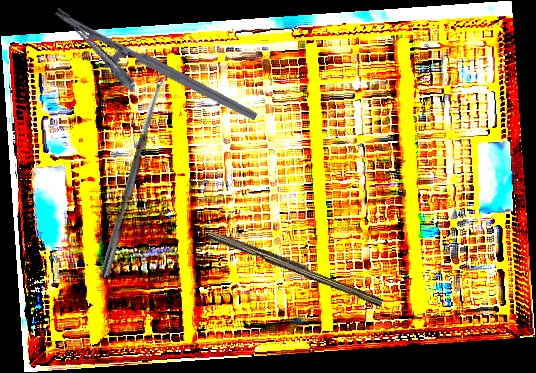Needle Holder: (39, 5, 259, 150)
Scalpel Handle: (205, 226, 386, 308)
Surgical Spoon: (99, 69, 169, 281)
